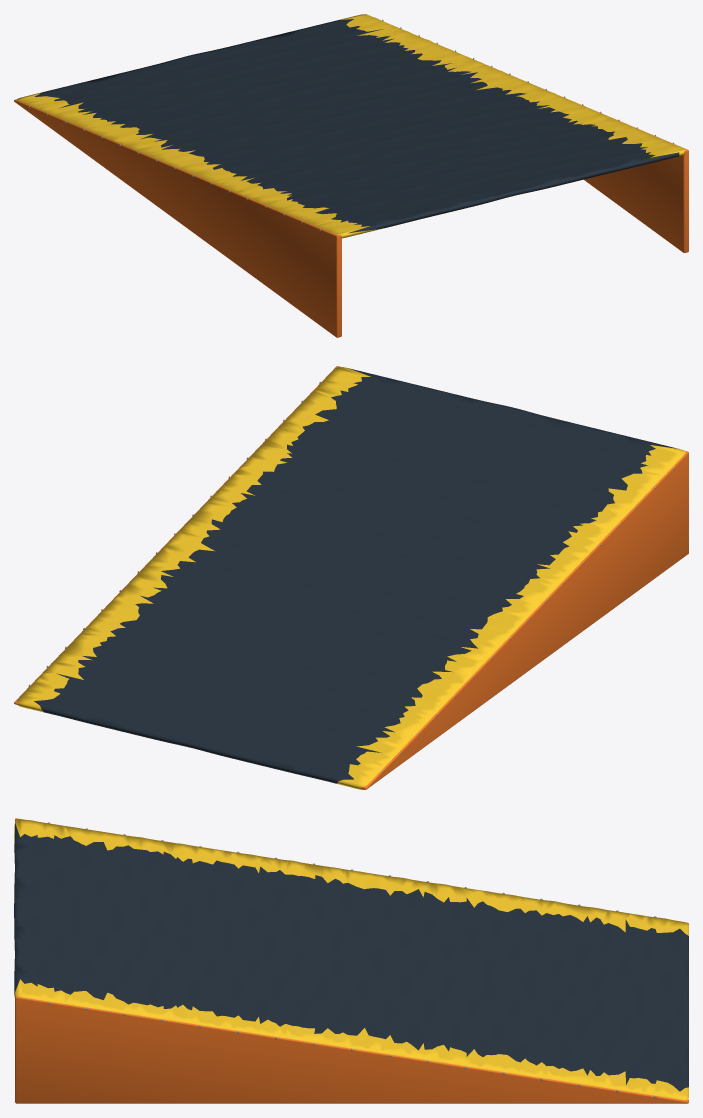
File: Jump_ramp_LOD1.glb
3 views of the same model, one above another, from view 1: azimuth 30°, elevation 25°; view 2: azimuth 150°, elevation 25°; view 3: azimuth 270°, elevation 25° (orthographic). The views are drawn at different scales.
Visible parts, largest first — view 1: Jump_ramp_GameMesh; view 2: Jump_ramp_GameMesh; view 3: Jump_ramp_GameMesh.
Boxes of the visible parts, x1,y1,x2,y2 form: Jump_ramp_GameMesh: [14, 14, 688, 337]; Jump_ramp_GameMesh: [14, 366, 688, 789]; Jump_ramp_GameMesh: [14, 818, 688, 1103].
Bounding box in the file's own units: 5.06 × 1.43 × 8.01.
